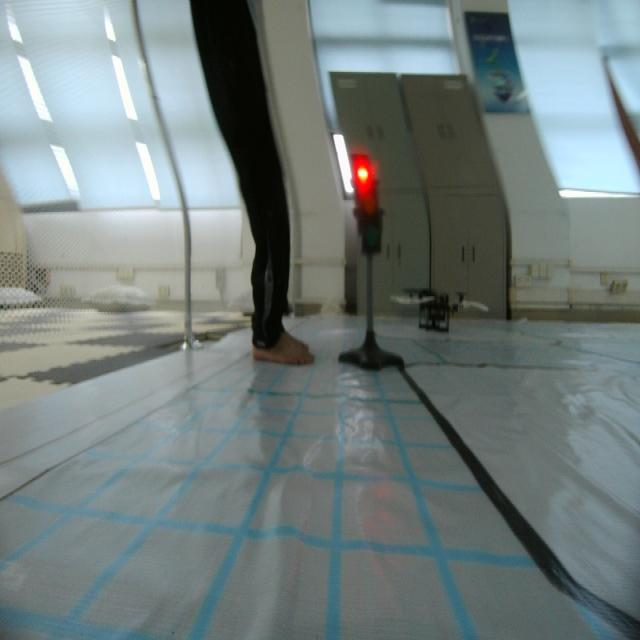red: (346, 151, 386, 261)
